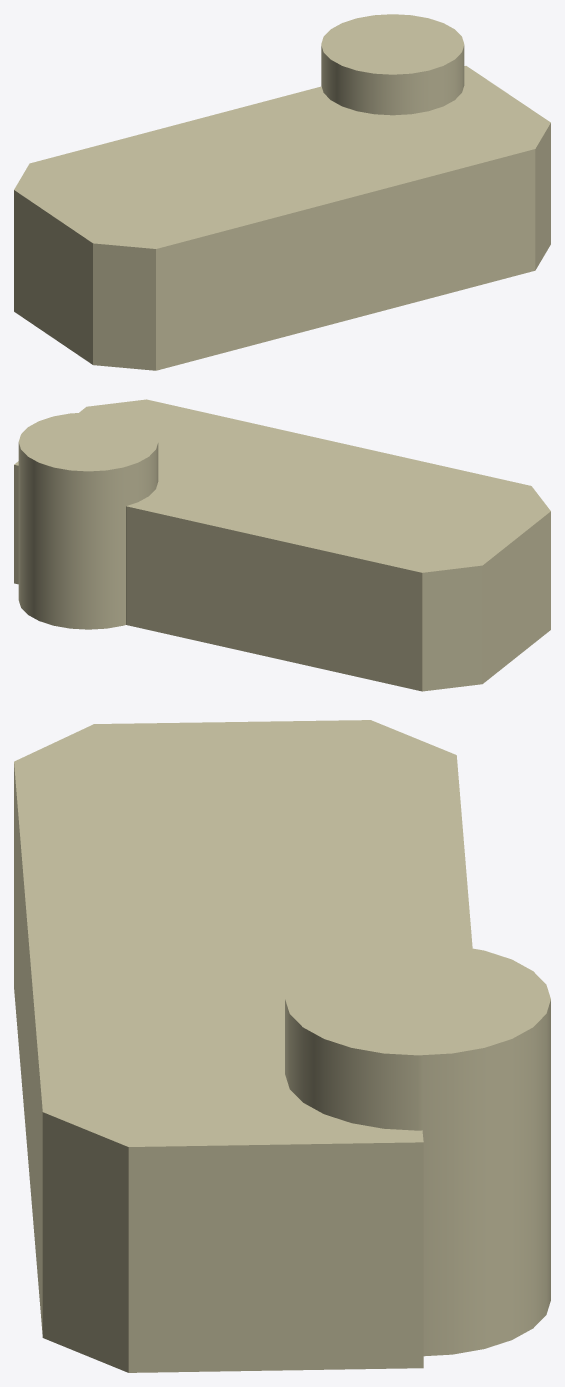
File: SM_WhiteModel_8.FBX
3 renders of one model, top to bottom at view 1: azimuth 30°, elevation 25°; view 2: azimuth 150°, elevation 25°; view 3: azimuth 270°, elevation 25°, orthographic. The views are drawn at different scales.
Visible parts, largest first — view 1: SM_WhiteModel_8; view 2: SM_WhiteModel_8; view 3: SM_WhiteModel_8.
Part boxes in pixels (left/top/right/bottom): SM_WhiteModel_8: left=14, top=14, right=550, bottom=370; SM_WhiteModel_8: left=14, top=399, right=550, bottom=691; SM_WhiteModel_8: left=14, top=720, right=550, bottom=1372.
Bounding box in the file's own units: 3649 × 1939 × 1200.
